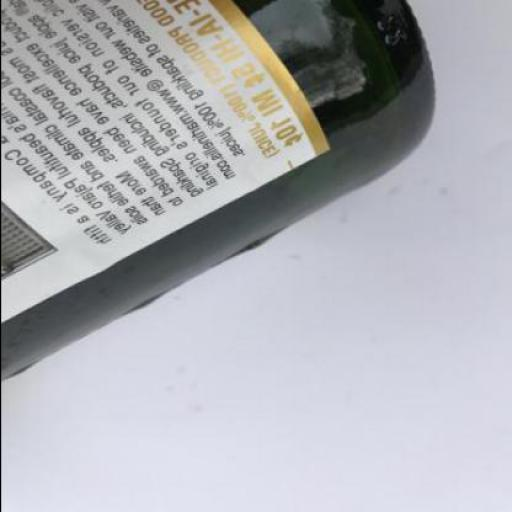glass: (1, 1, 436, 381)
